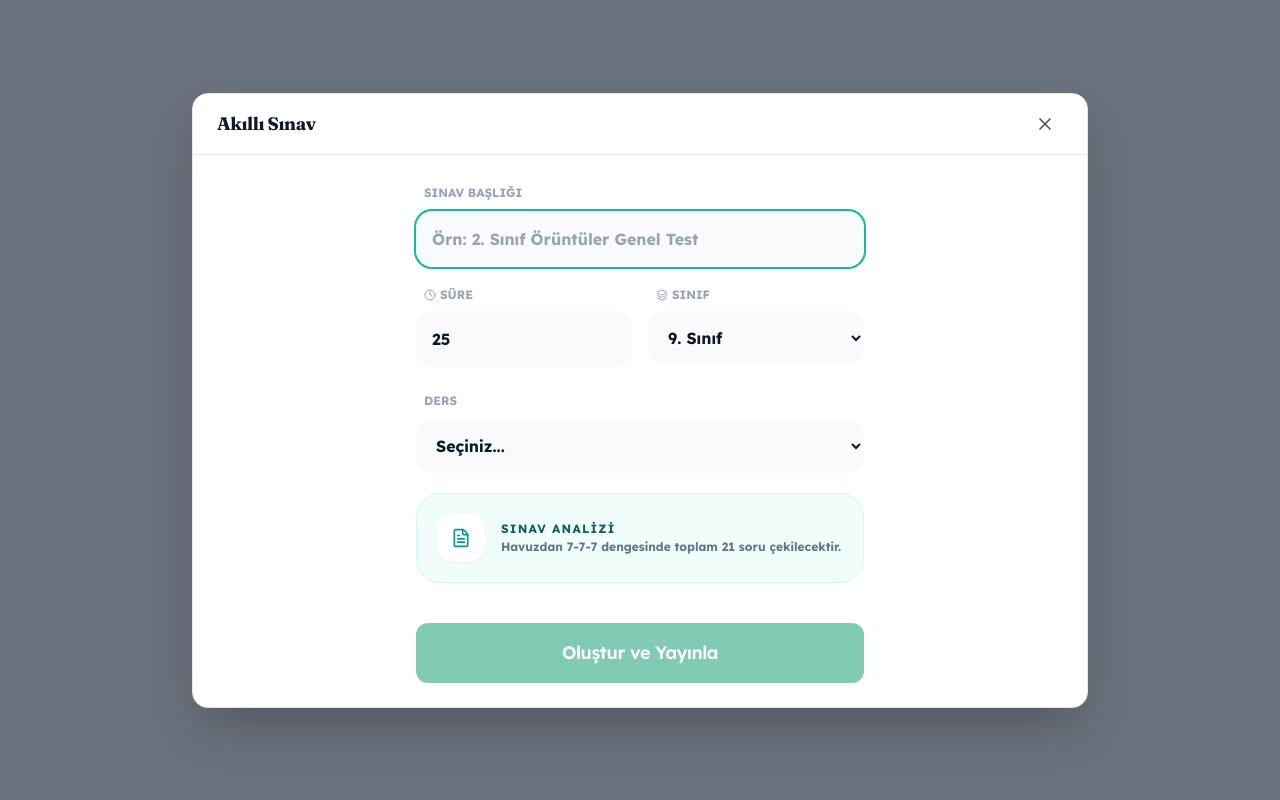
it: allows creation once all difficulty groups are sufficient
Select "Matematik" in the dropdown named "Ders": (640, 446) [416,418,864,472]
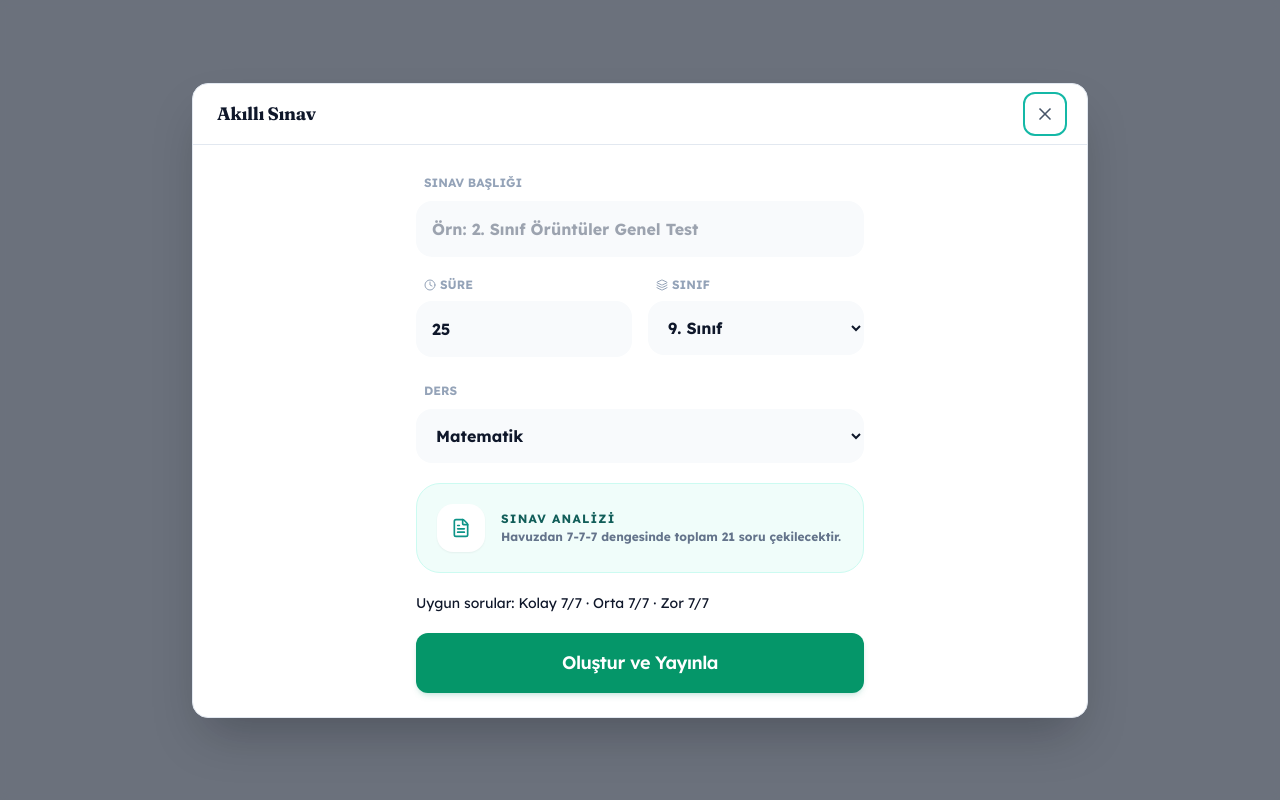
Now the button "Oluştur ve Yayınla" is enabled, box [416,632,864,692]
